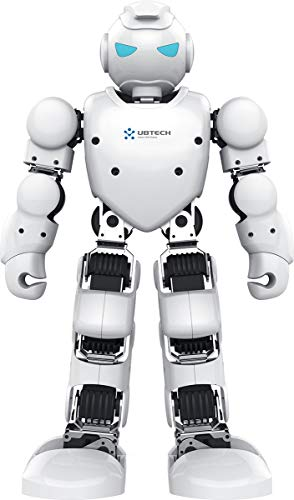person-like: (1, 1, 294, 496)
